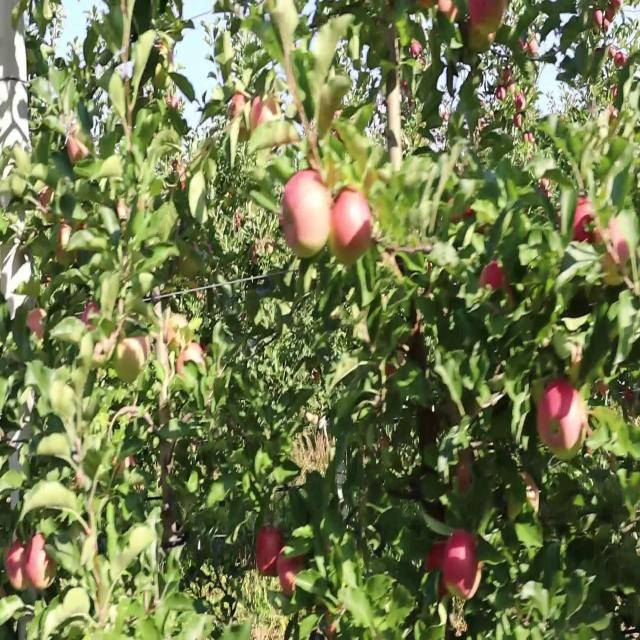apple: (284, 170, 333, 261), (540, 376, 589, 460), (332, 191, 373, 261), (444, 533, 482, 603), (600, 220, 631, 281), (28, 533, 57, 592), (480, 263, 514, 308), (424, 540, 448, 601), (256, 526, 284, 576), (116, 341, 147, 384), (572, 199, 598, 245), (472, 0, 507, 34), (176, 341, 206, 379), (252, 92, 279, 133), (464, 21, 494, 57), (280, 554, 305, 597), (164, 312, 189, 354), (8, 540, 28, 590), (68, 127, 92, 165), (484, 0, 507, 34), (180, 248, 203, 281), (92, 334, 114, 368), (448, 199, 475, 226), (456, 455, 475, 492), (56, 227, 74, 265), (324, 604, 343, 638), (228, 92, 248, 124), (116, 199, 132, 233), (80, 305, 100, 332), (28, 312, 45, 341), (116, 455, 136, 476), (437, 7, 459, 23), (608, 1, 622, 25), (40, 191, 54, 212), (412, 42, 425, 62), (616, 56, 628, 69), (596, 14, 605, 30)
